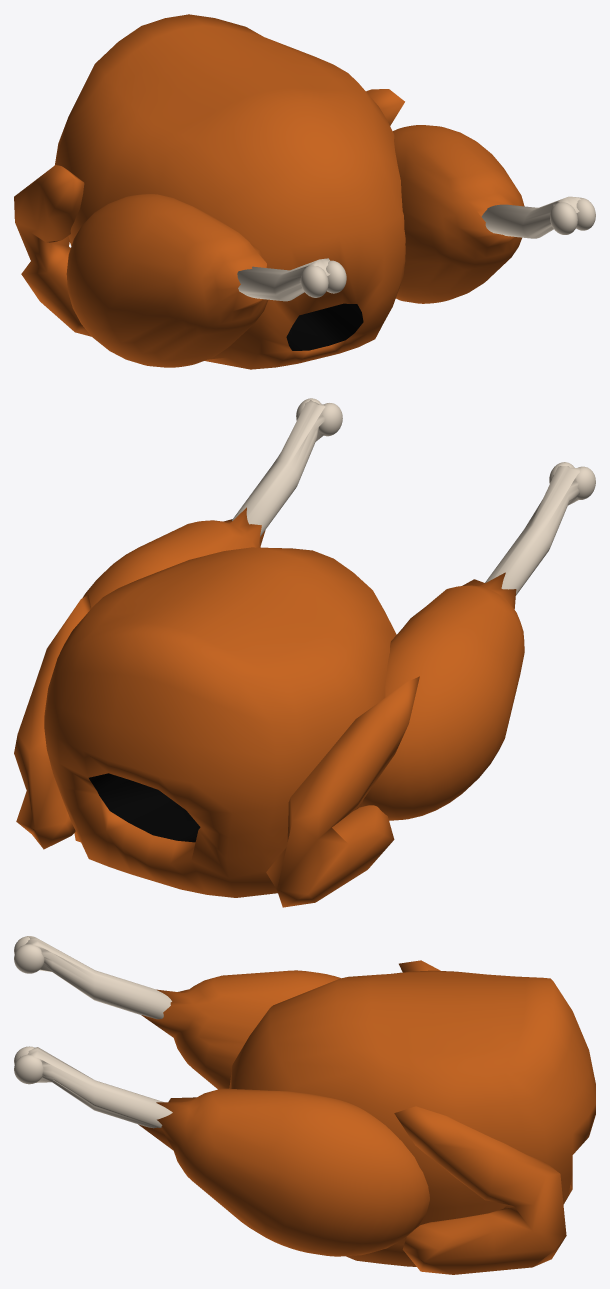
File: Turkey.fbx
3 renders of one model, top to bottom at view 1: azimuth 30°, elevation 25°; view 2: azimuth 150°, elevation 25°; view 3: azimuth 270°, elevation 25°, orthographic. The views are drawn at different scales.
Visible parts, largest first — view 1: Cube, Sphere.000, Sphere.001, Cube.002, Cube.001; view 2: Cube, Sphere.000, Cube.002, Sphere.001, Cube.001; view 3: Cube, Sphere.001, Cube.001, Sphere.000.
Boxes of the visible parts, box(x1,y1,x2,y2) form: Cube: box(55, 14, 405, 369); Sphere.000: box(66, 194, 346, 367); Sphere.001: box(393, 125, 595, 303); Cube.002: box(14, 165, 91, 336); Cube.001: box(366, 89, 404, 125); Cube: box(44, 547, 396, 897); Sphere.000: box(361, 462, 595, 820); Cube.002: box(266, 676, 419, 907); Sphere.001: box(82, 398, 342, 608); Cube.001: box(14, 595, 91, 849); Cube: box(229, 970, 595, 1266); Sphere.001: box(14, 1046, 429, 1256); Cube.001: box(394, 1106, 566, 1274); Sphere.000: box(14, 936, 340, 1089).
Bounding box in the file's own units: 4.35 × 2.47 × 5.82.
